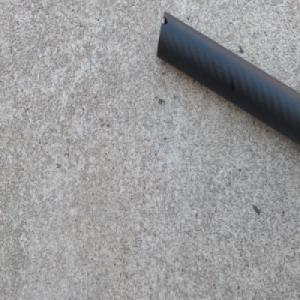LuggagePart: (155, 9, 300, 147)
